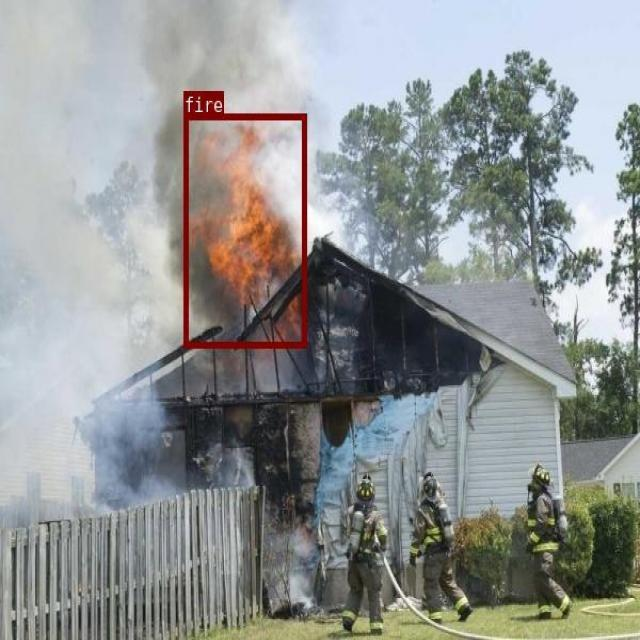fire: (183, 114, 306, 347)
